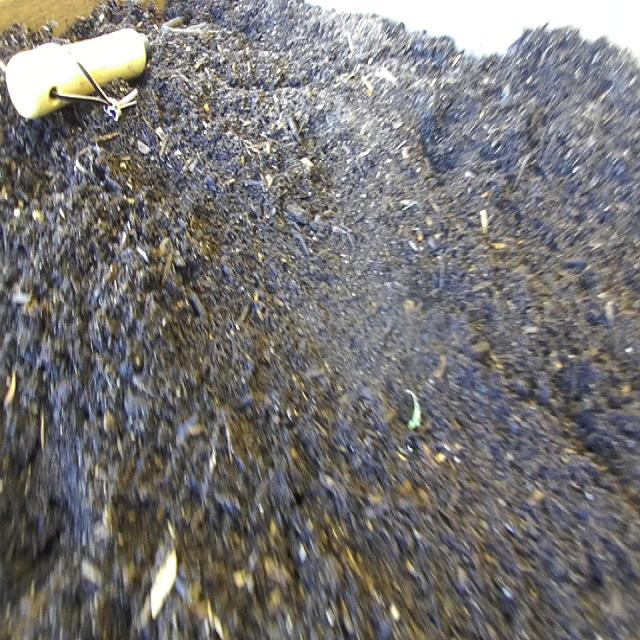Unhealthy: (402, 384, 424, 434)
